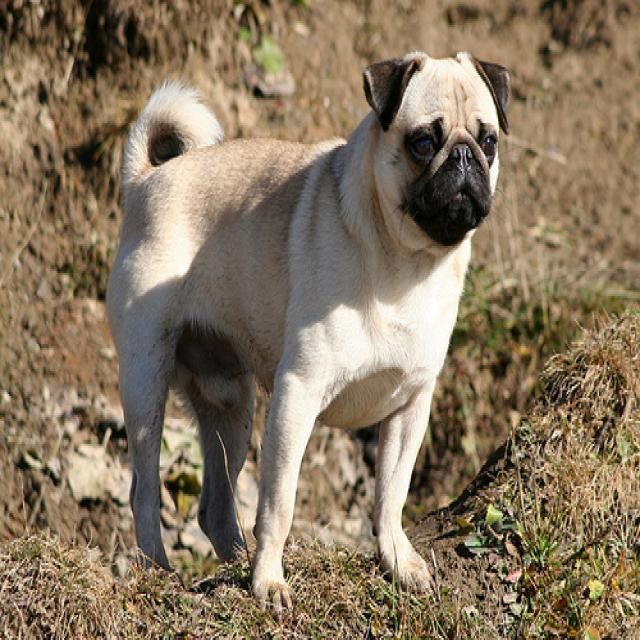dog-pug: (95, 40, 517, 623)
